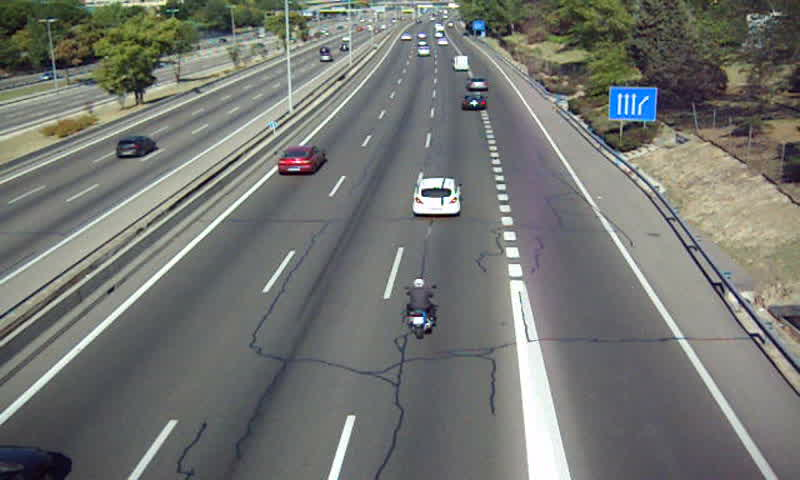car: (412, 177, 462, 215), (277, 148, 325, 176), (460, 94, 488, 111), (466, 76, 489, 92)
motorcycle: (402, 278, 437, 340)
van: (452, 54, 470, 71)
